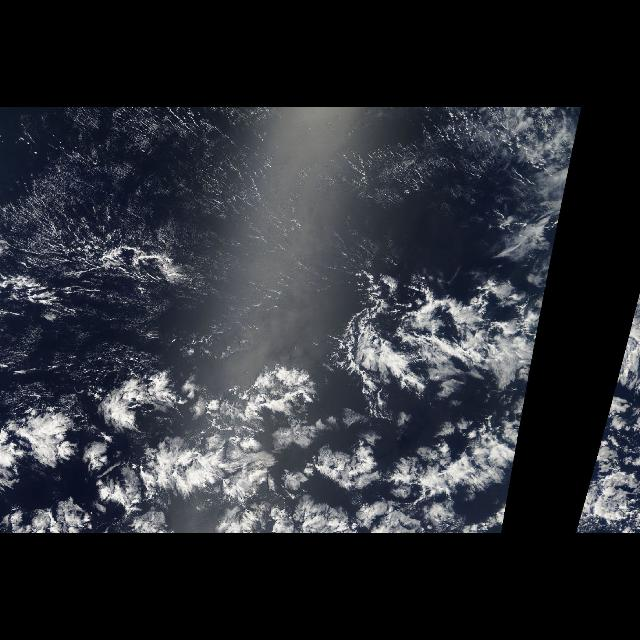Fish: (326, 266, 550, 414), (608, 293, 640, 413)
Flower: (6, 295, 544, 533)
Sugar: (0, 107, 582, 367)
